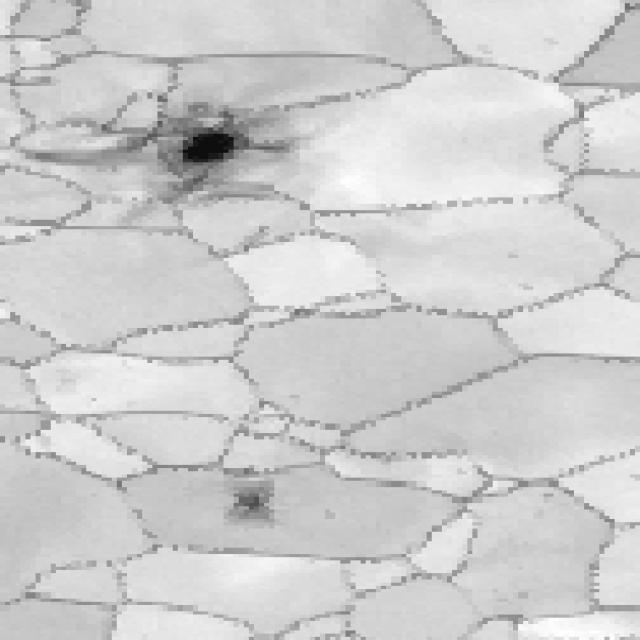good_void: (19, 97, 328, 211), (224, 475, 282, 520), (287, 386, 309, 406), (513, 588, 536, 601), (501, 250, 519, 263), (316, 506, 334, 519)
